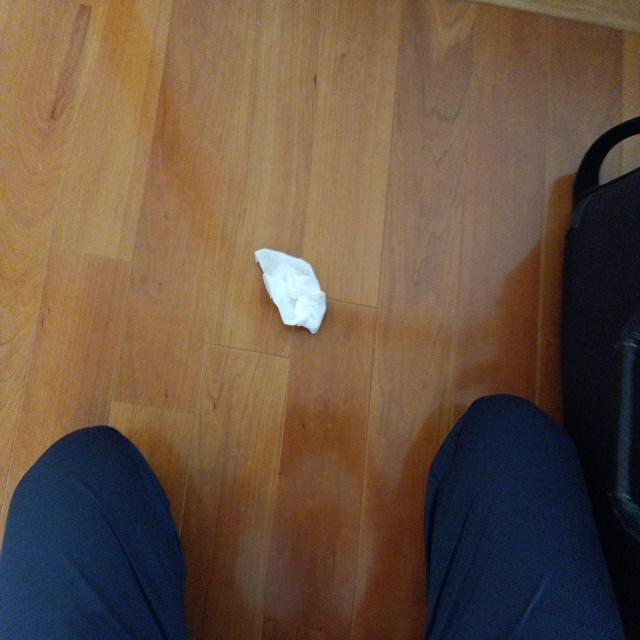Paper: (237, 240, 342, 329)
